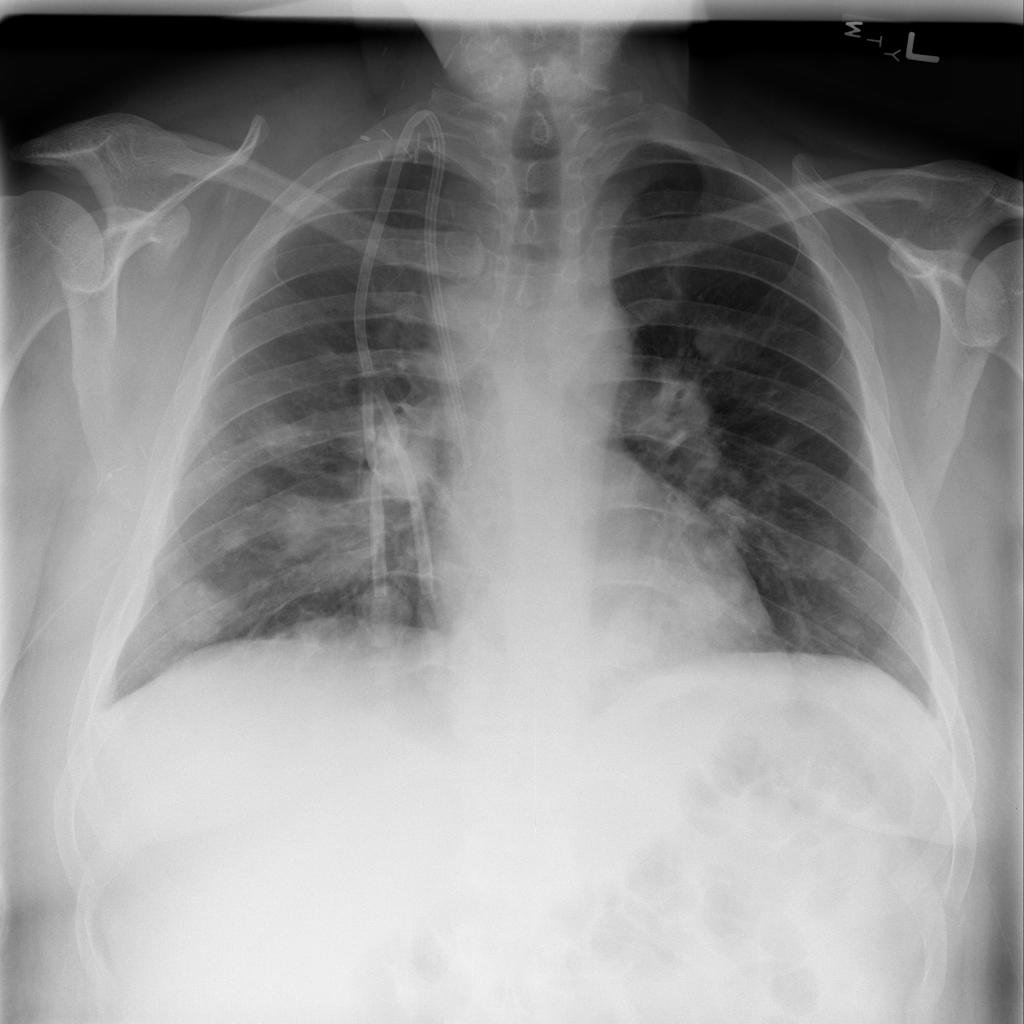nodule: (346, 404, 453, 512), (151, 573, 241, 648), (590, 598, 671, 677), (682, 304, 767, 375), (661, 568, 743, 639), (263, 490, 340, 563), (242, 400, 321, 469), (790, 521, 864, 594), (348, 574, 420, 647), (691, 480, 762, 554), (802, 603, 887, 662)
